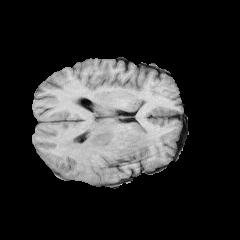glioma: (58, 116, 153, 166)
